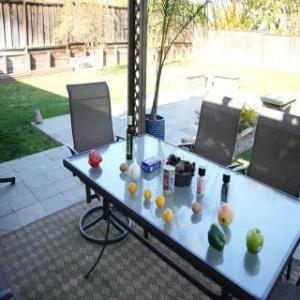bell_pepper: (208, 221, 226, 251), (87, 150, 102, 168)
egg: (190, 199, 202, 214)
onion: (130, 163, 140, 182)
